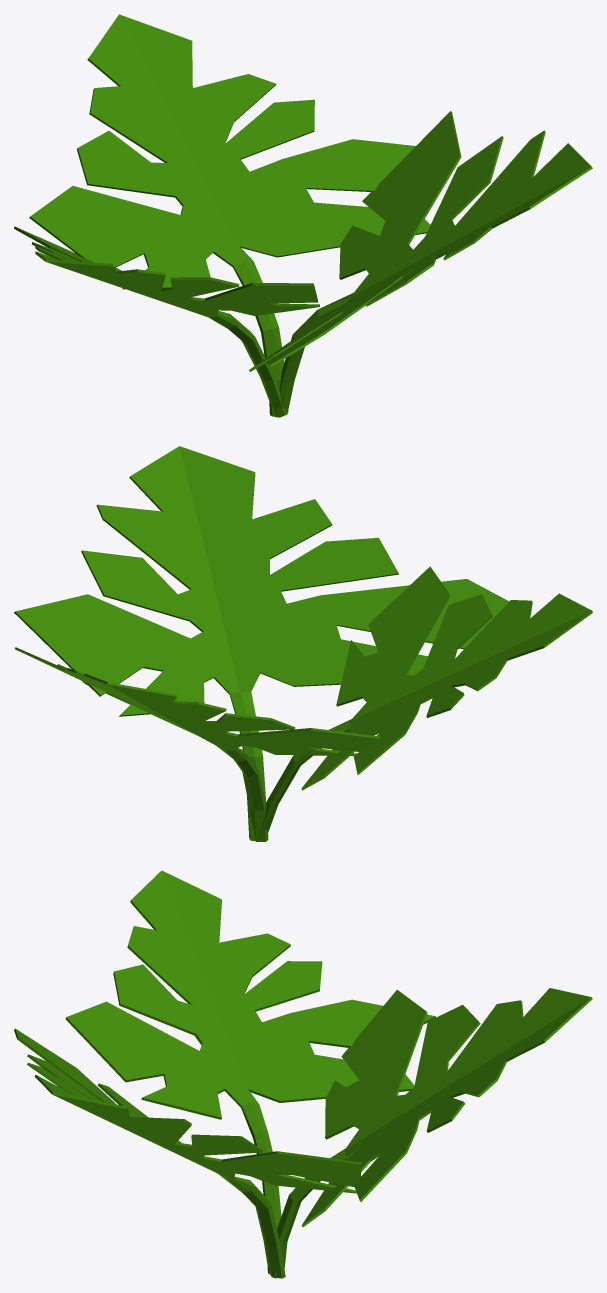
Rendered from Plant_b_01.fbx.
3 views of the same model, one above another, from view 1: azimuth 30°, elevation 25°; view 2: azimuth 150°, elevation 25°; view 3: azimuth 270°, elevation 25° (orthographic). The views are drawn at different scales.
Parts seen in each view (by area): view 1: Plant_b_01_LOD0; view 2: Plant_b_01_LOD0; view 3: Plant_b_01_LOD0.
Part boxes in pixels (bbox=[...]): Plant_b_01_LOD0: bbox=[14, 14, 592, 417]; Plant_b_01_LOD0: bbox=[14, 446, 592, 841]; Plant_b_01_LOD0: bbox=[14, 870, 592, 1278].
Bounding box in the file's own units: 17.9 × 17.85 × 9.46.
